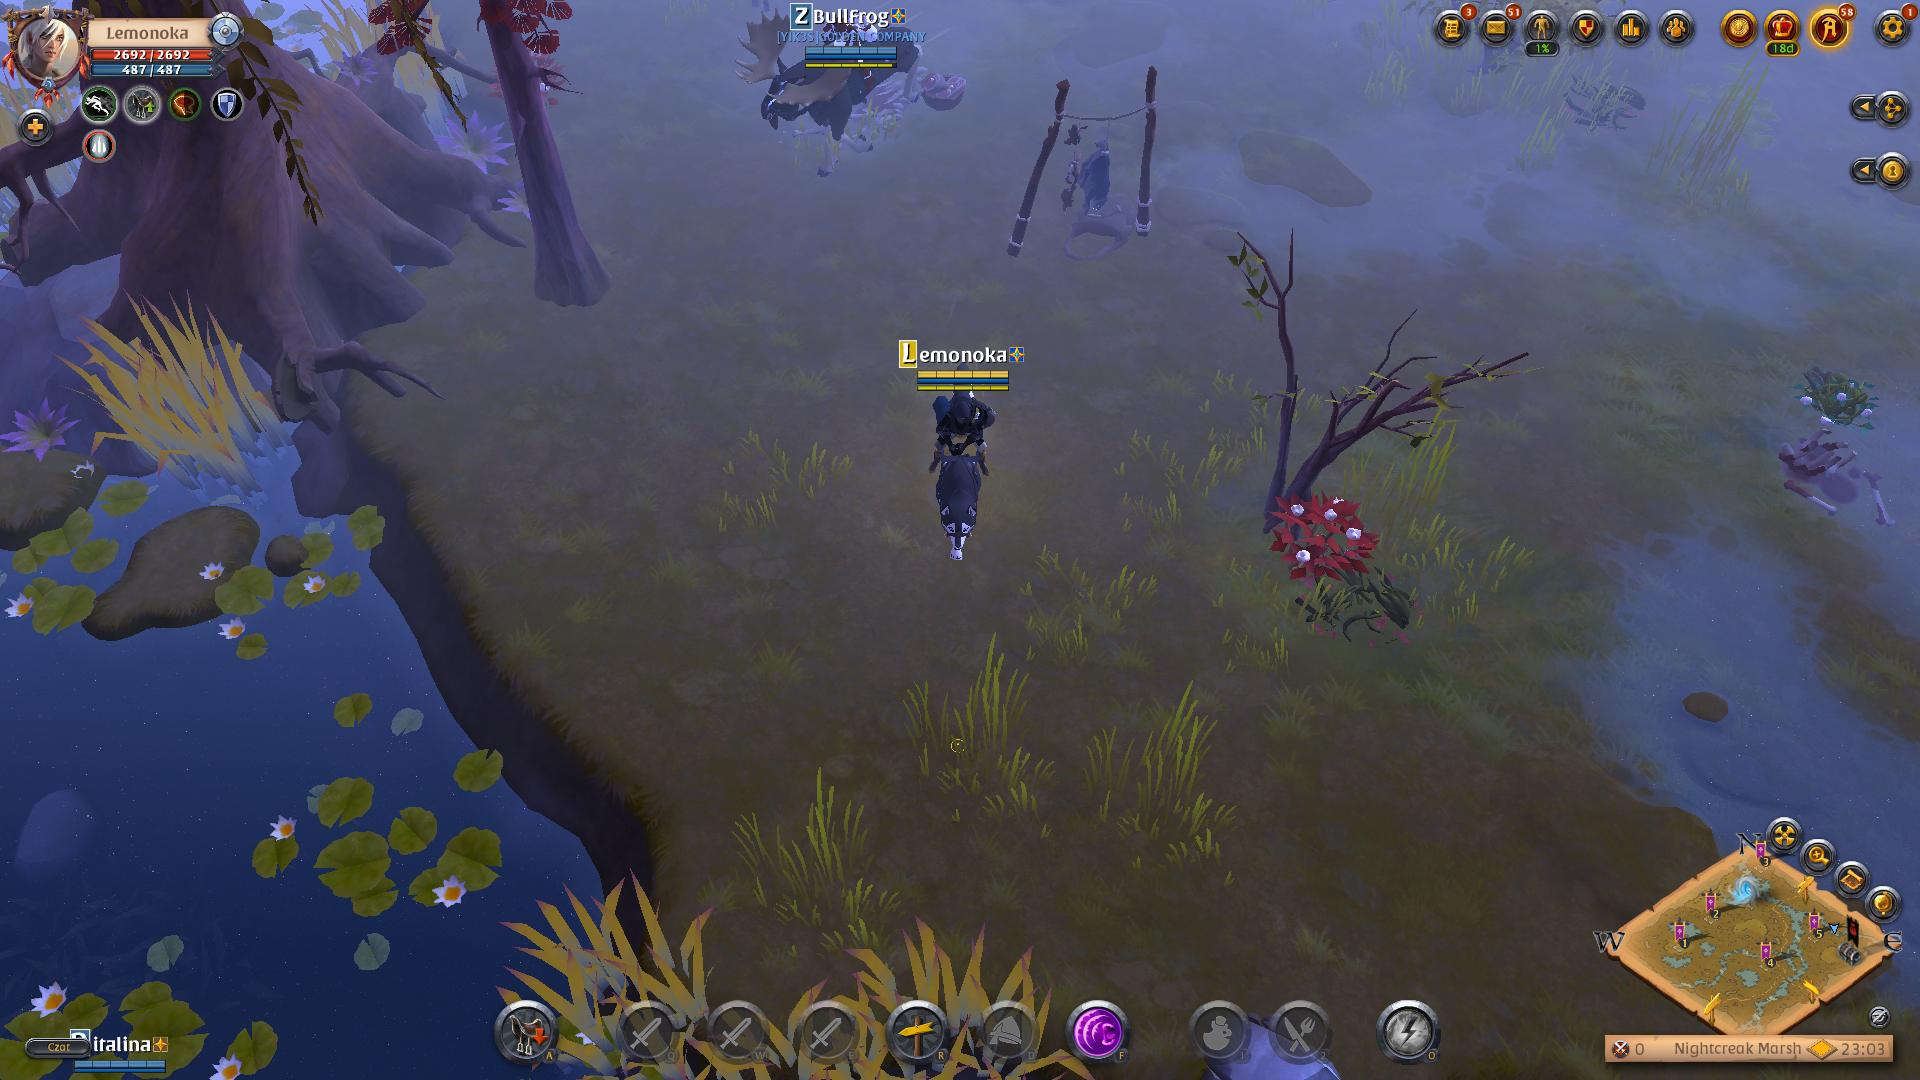fiber tier 5: (1265, 491, 1385, 593)
